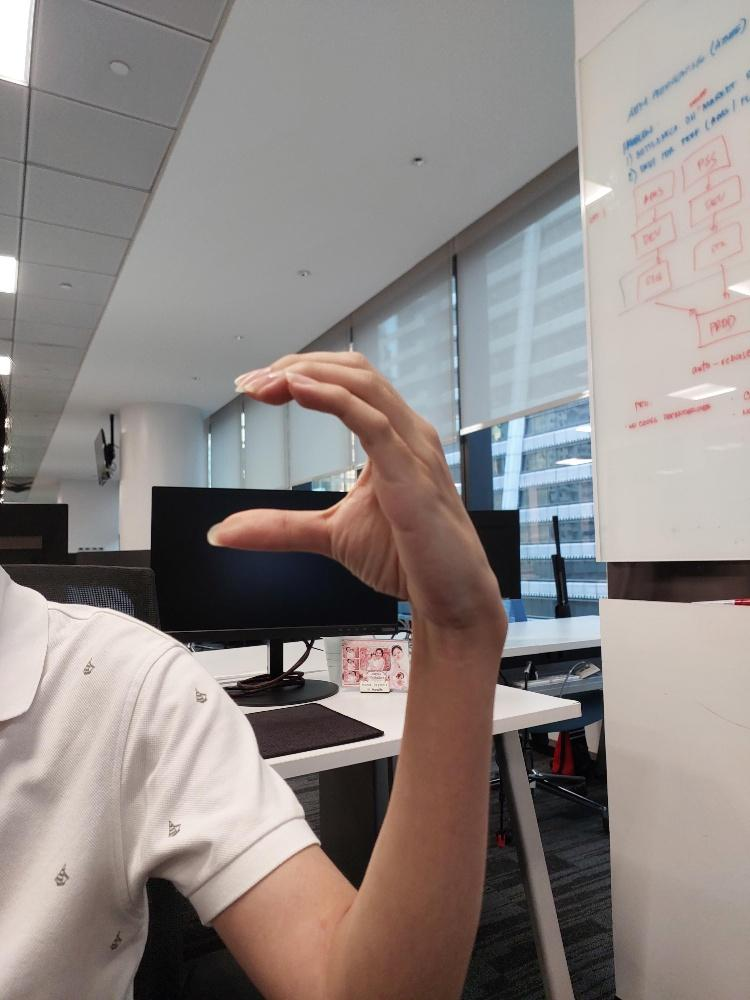c: (204, 349, 506, 624)
